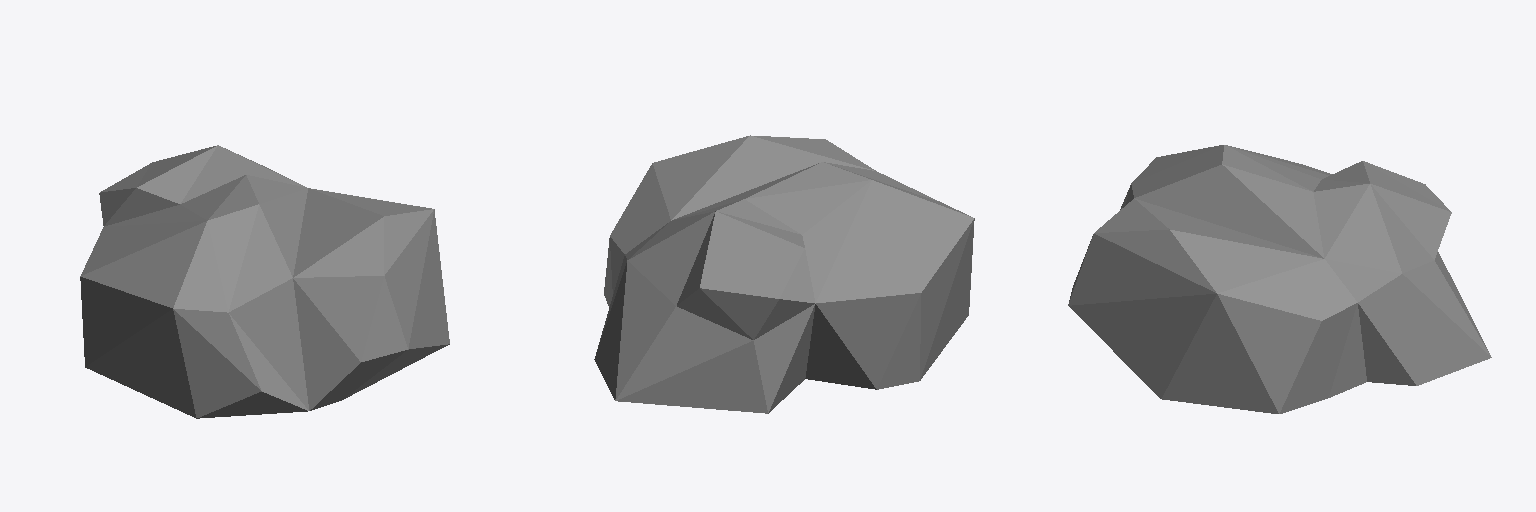
File: Roca_06.obj
The picture shows the model from 3 angles: view 1: azimuth 30°, elevation 25°; view 2: azimuth 150°, elevation 25°; view 3: azimuth 270°, elevation 25°; orthographic projection.
Parts seen in each view (by area): view 1: Roca_06; view 2: Roca_06; view 3: Roca_06.
Part boxes in pixels (bbox=[...]): Roca_06: bbox=[80, 145, 449, 418]; Roca_06: bbox=[594, 135, 974, 413]; Roca_06: bbox=[1068, 145, 1491, 413].
Bounding box in the file's own units: 20.58 × 9.46 × 22.97.